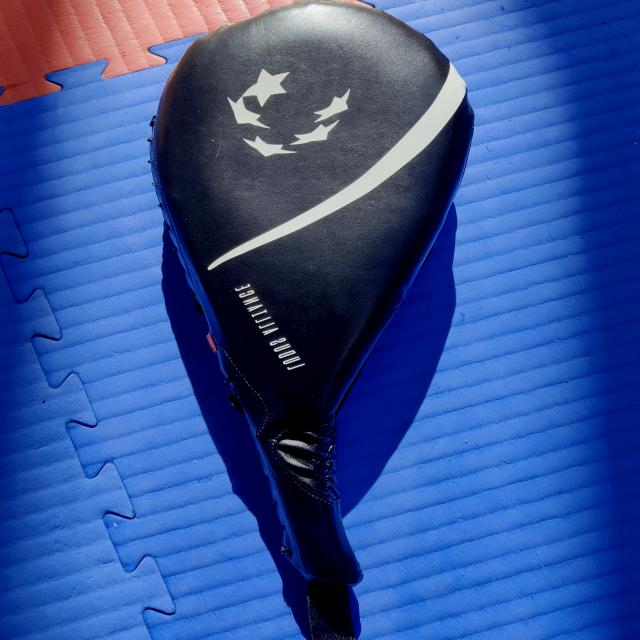paddle: (143, 0, 480, 584)
